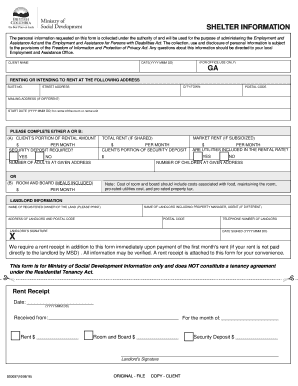checkbox: (7, 150, 21, 161), (34, 150, 46, 162), (218, 150, 230, 162), (83, 329, 94, 342), (183, 331, 196, 342), (10, 330, 21, 342), (192, 151, 204, 161)
textbox: (4, 106, 292, 122), (4, 95, 292, 110), (3, 226, 222, 243), (141, 202, 292, 219), (38, 82, 183, 99), (4, 215, 164, 230), (154, 157, 292, 174), (4, 158, 157, 173), (4, 59, 141, 74), (3, 204, 145, 218), (188, 133, 292, 150), (195, 57, 292, 74), (96, 145, 192, 162), (5, 132, 100, 149), (97, 133, 192, 150), (3, 179, 104, 194), (219, 214, 292, 231), (180, 82, 245, 99), (219, 227, 292, 242), (161, 214, 222, 230), (138, 58, 198, 74), (241, 81, 292, 99), (4, 83, 41, 99)
textline: (120, 349, 281, 359), (48, 311, 180, 321), (24, 295, 93, 306), (219, 311, 279, 321), (35, 329, 80, 341), (236, 330, 280, 341), (137, 330, 179, 341)
